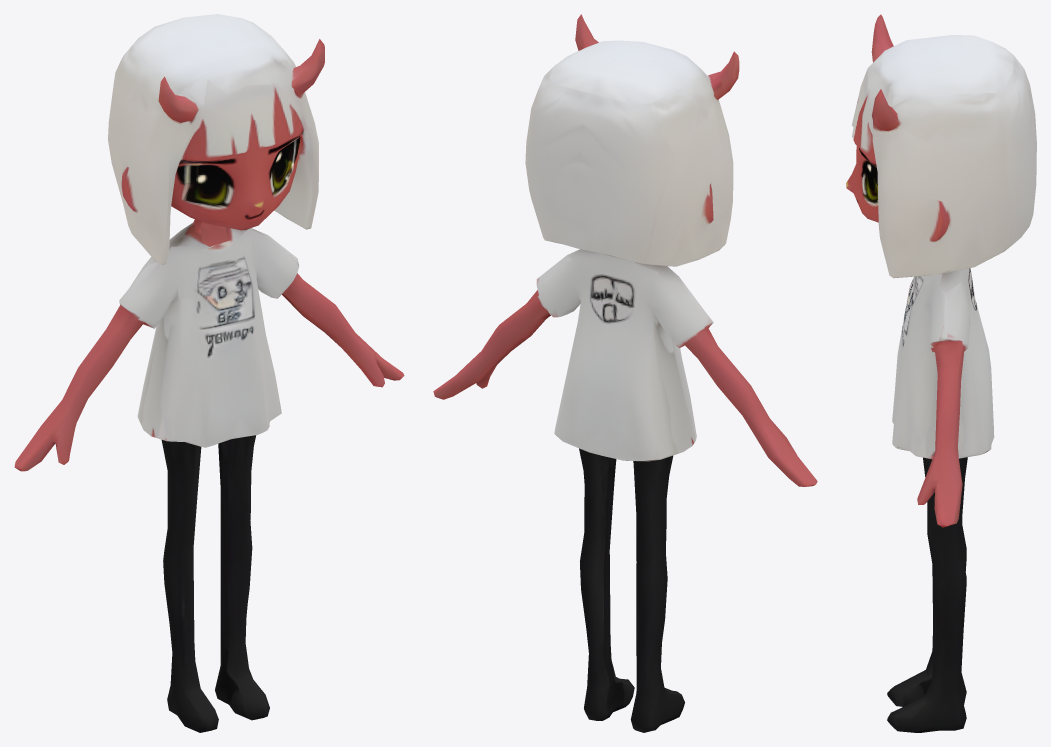
File: basic_shaded.fbx
3 renders of one model, left to right at view 1: azimuth 30°, elevation 25°; view 2: azimuth 150°, elevation 25°; view 3: azimuth 270°, elevation 25°, orthographic.
Parts seen in each view (by area): view 1: model_LOD4; view 2: model_LOD4; view 3: model_LOD4.
Boxes of the visible parts, x1,y1,x2,y2 form: model_LOD4: [14, 14, 404, 732]; model_LOD4: [433, 14, 817, 732]; model_LOD4: [846, 14, 1036, 732].
Size of the model in its own units: 115 by 190 by 49.48.
